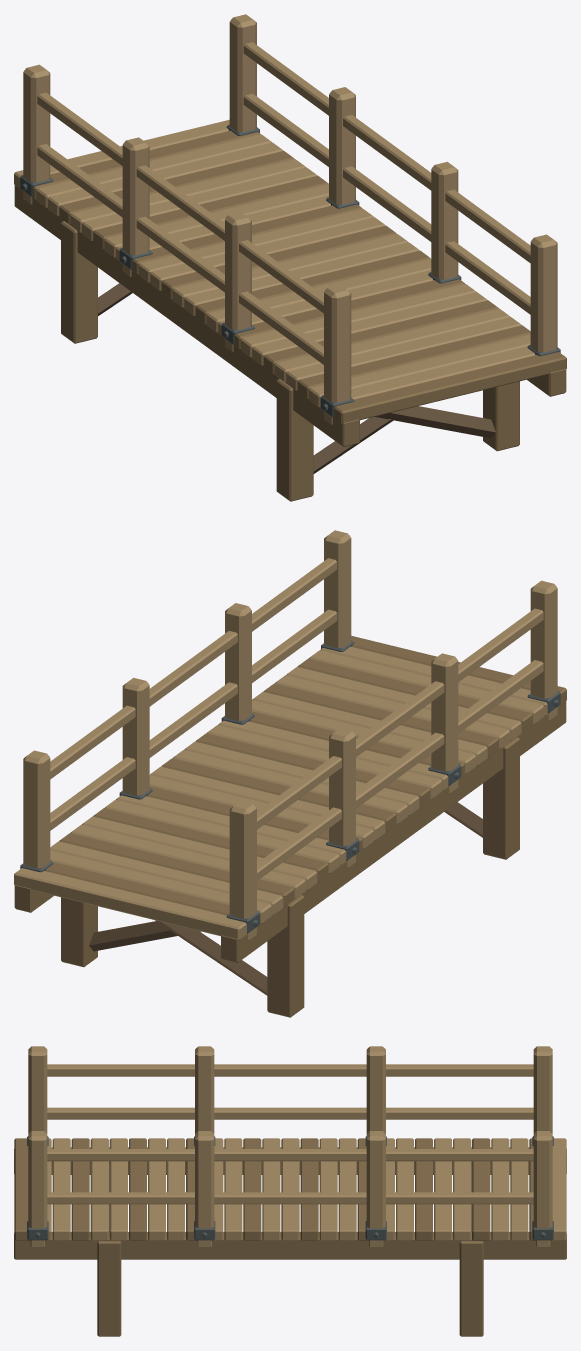
The model's file is timber-bridge.glb.
3 views of the same model, one above another, from view 1: azimuth 30°, elevation 25°; view 2: azimuth 150°, elevation 25°; view 3: azimuth 270°, elevation 25° (orthographic). The views are drawn at different scales.
Parts seen in each view (by area): view 1: Static_mesh; view 2: Static_mesh; view 3: Static_mesh.
Boxes of the visible parts, <box> form: Static_mesh: <box>14,14,566,501</box>; Static_mesh: <box>14,530,566,1017</box>; Static_mesh: <box>14,1046,566,1336</box>.
Size of the model in its own units: 2.39 by 2.3 by 5.8.
